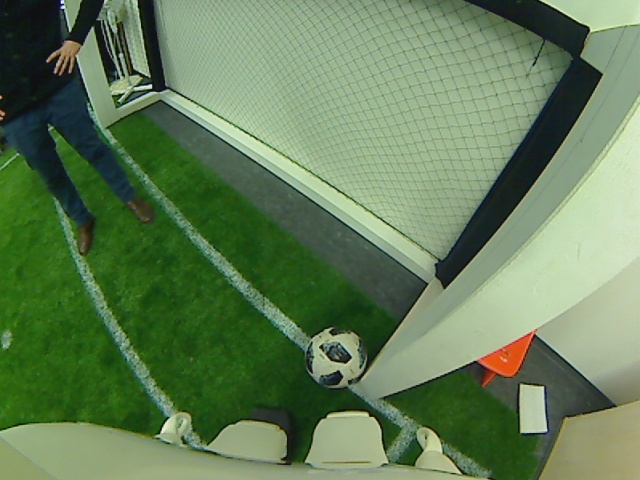ball: (304, 325, 365, 392)
